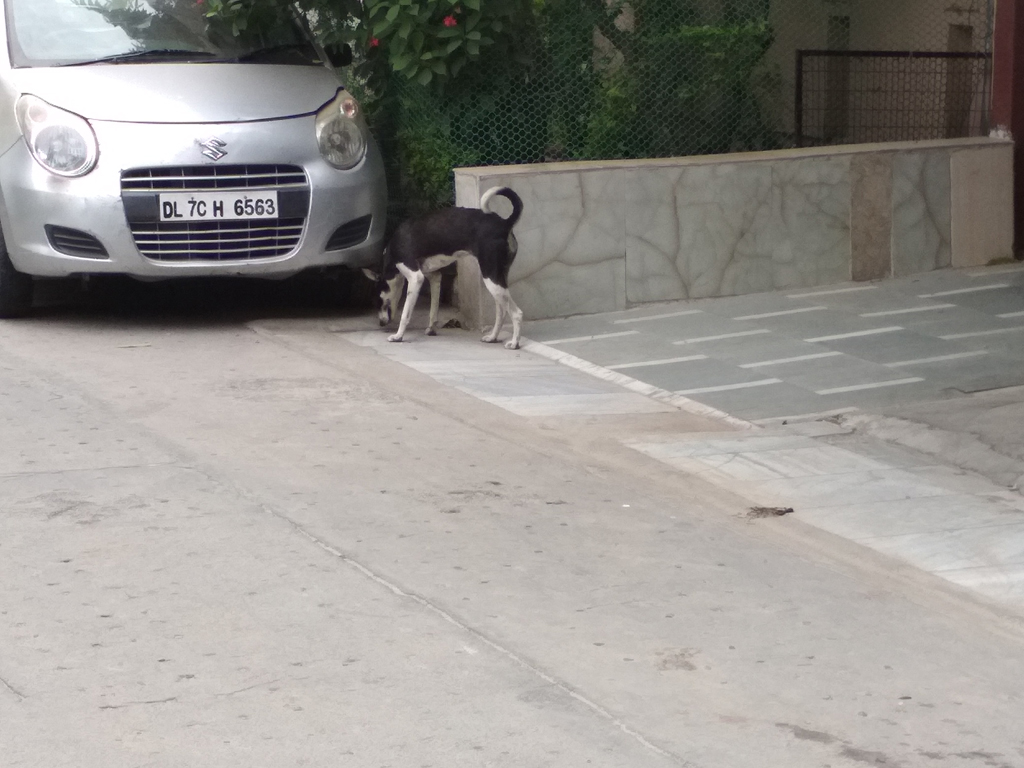dog: (361, 183, 523, 350)
